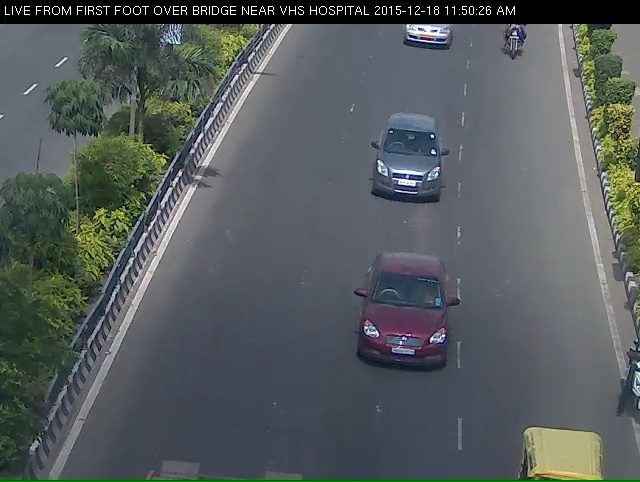Car: (359, 262, 452, 392), (363, 124, 449, 217), (399, 25, 456, 60)
Person: (497, 22, 532, 70)
